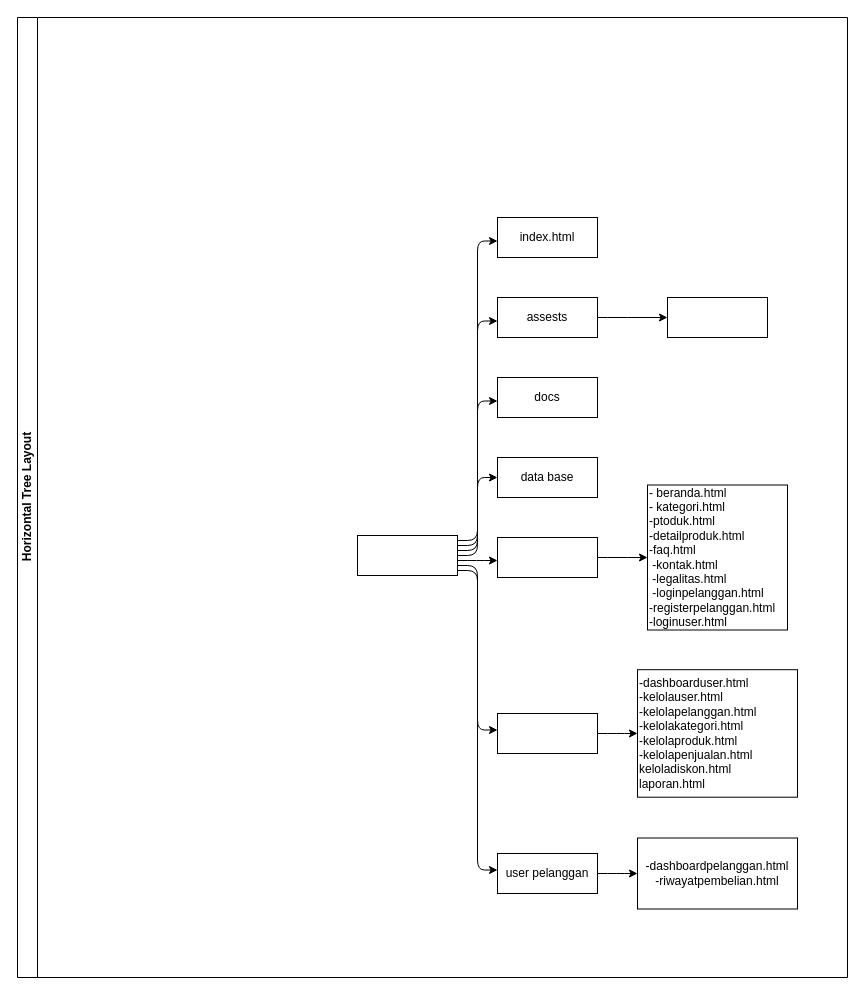
Some shapes in this 865 by 995 pixel diagram are drawn without their labels. The shapes that lost their labels are listed below. From the top down, each one's centre as x and y in pixels, then its label:
the point at 717,317: -css -js -img
the point at 407,555: tasyaclasicstyle
the point at 547,557: pages landing
the point at 547,733: user admin
